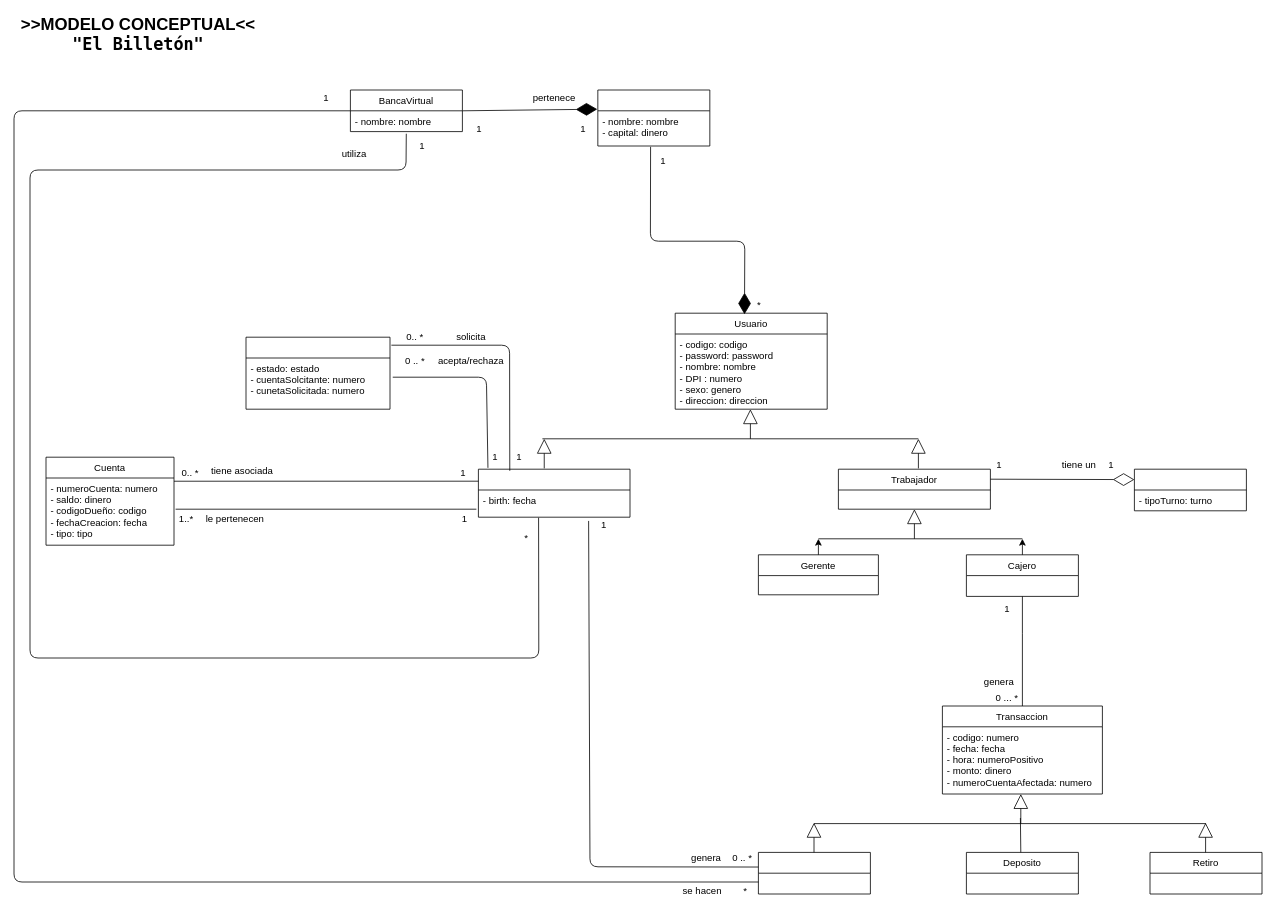
The diagram is 1276 pixels wide and 914 high, and some of its shapes have lost their labels. Each missing label, with the box of its shape:
Asociacion: (245, 336, 390, 409)
Banco: (597, 89, 710, 146)
Cliente: (478, 468, 630, 517)
HorarioTrabajo: (1134, 468, 1246, 511)
Transferencia: (758, 852, 870, 894)
